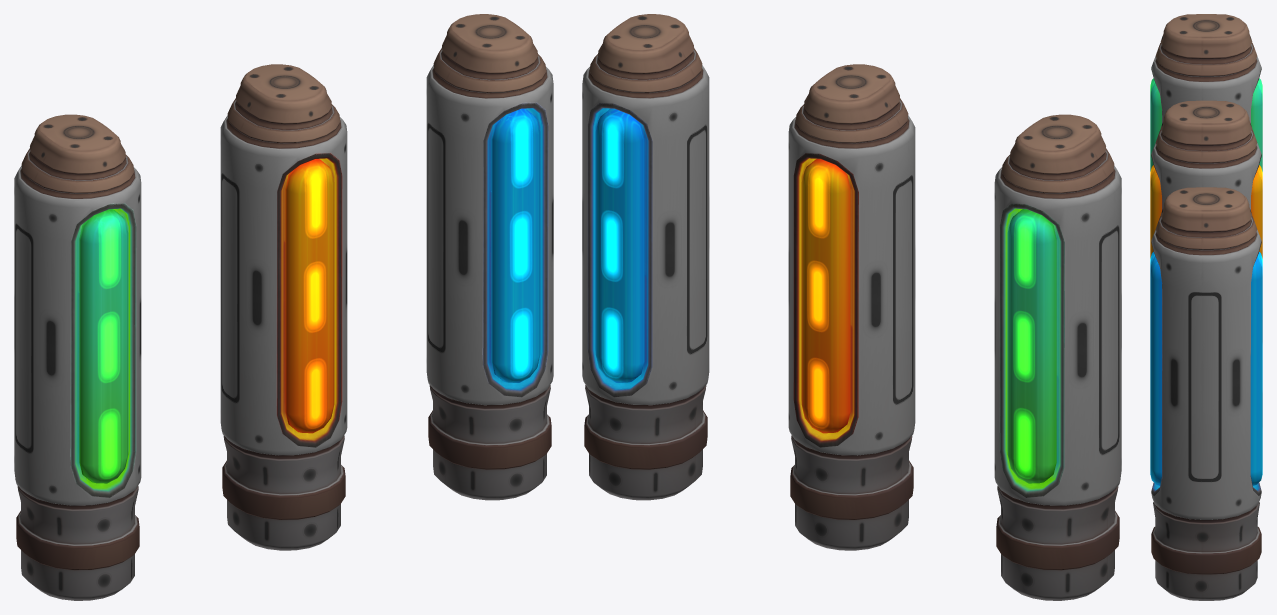
The model's file is Cylinder_Sci_Fi_1.gltf.
The picture shows the model from 3 angles, left to right: view 1: azimuth 30°, elevation 25°; view 2: azimuth 150°, elevation 25°; view 3: azimuth 270°, elevation 25°; orthographic projection. The views are drawn at different scales.
Parts seen in each view (by area): view 1: Cylinder_Sci_Fi_1_3, Cylinder_Sci_Fi_1_1, Cylinder_Sci_Fi_1_2; view 2: Cylinder_Sci_Fi_1_3, Cylinder_Sci_Fi_1_1, Cylinder_Sci_Fi_1_2; view 3: Cylinder_Sci_Fi_1_2, Cylinder_Sci_Fi_1_1, Cylinder_Sci_Fi_1_3.
Boxes of the visible parts, left/top/right/bottom form: Cylinder_Sci_Fi_1_3: left=14, top=114, right=141, bottom=600; Cylinder_Sci_Fi_1_1: left=220, top=64, right=347, bottom=550; Cylinder_Sci_Fi_1_2: left=426, top=14, right=553, bottom=500; Cylinder_Sci_Fi_1_3: left=994, top=114, right=1121, bottom=600; Cylinder_Sci_Fi_1_1: left=788, top=64, right=915, bottom=550; Cylinder_Sci_Fi_1_2: left=582, top=14, right=709, bottom=500; Cylinder_Sci_Fi_1_2: left=1150, top=187, right=1262, bottom=600; Cylinder_Sci_Fi_1_1: left=1150, top=100, right=1262, bottom=258; Cylinder_Sci_Fi_1_3: left=1150, top=14, right=1262, bottom=171.
Size of the model in its own units: 126 by 104 by 27.43.
3 materials, 3 textured.
